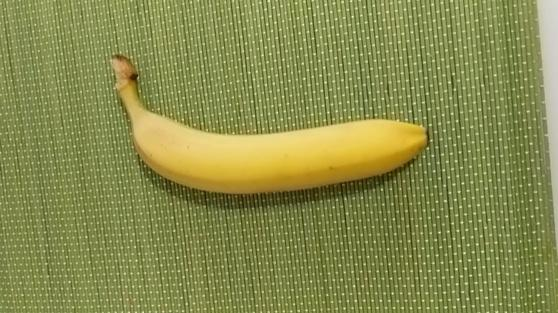banana: (109, 48, 434, 197)
